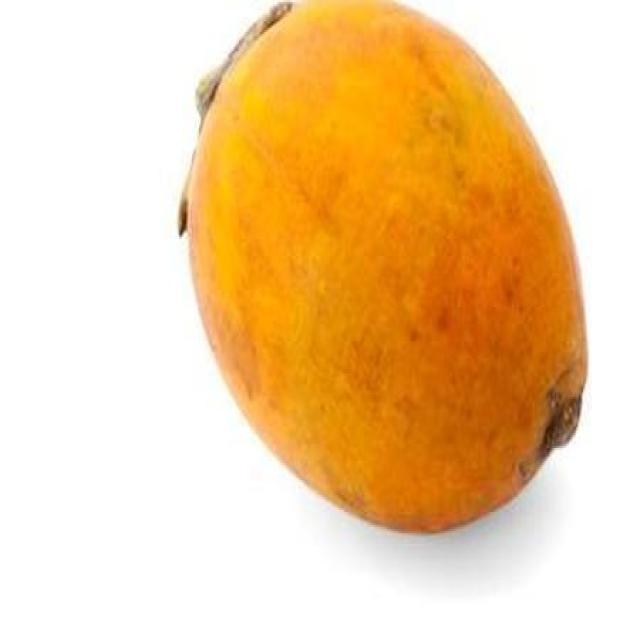good: (179, 0, 590, 538)
